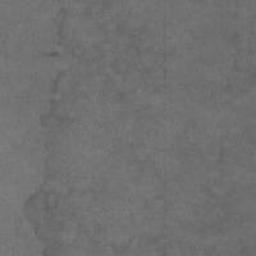Water spot: (23, 0, 256, 256)
